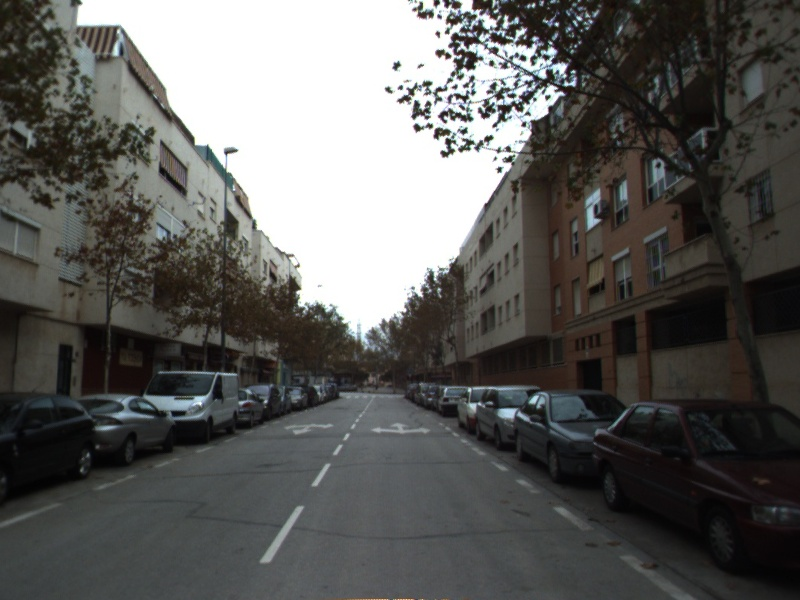STRAIGHT_LEFT_RIGHT: (369, 420, 433, 436)
